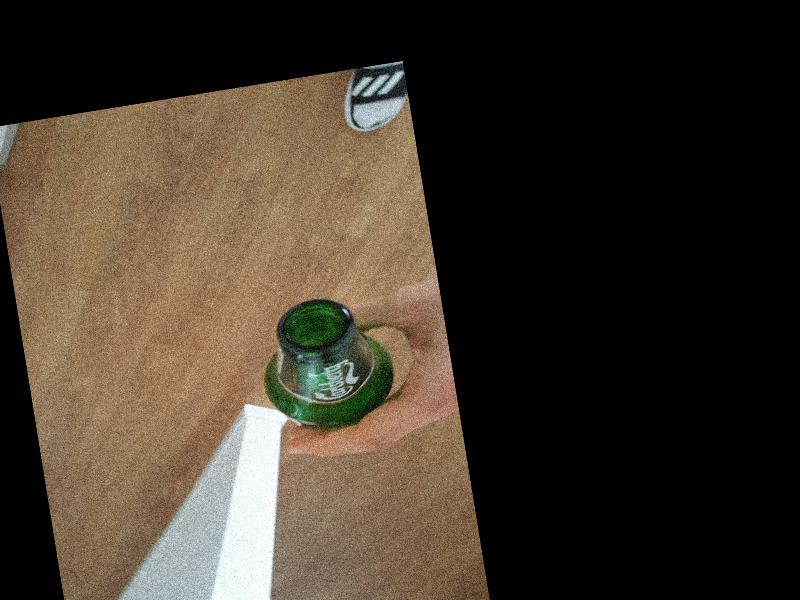Beer: (252, 288, 403, 437)
